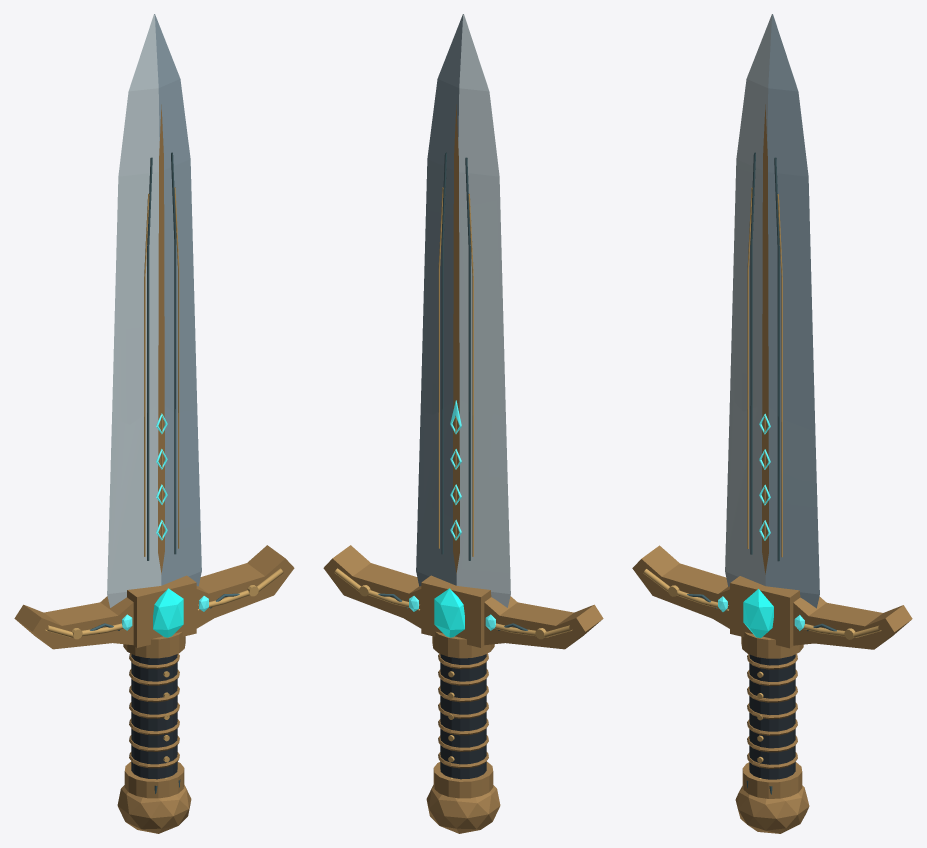
File: fractura_guardian.glb
The picture shows the model from 3 angles, left to right: view 1: azimuth 30°, elevation 25°; view 2: azimuth 150°, elevation 25°; view 3: azimuth 330°, elevation 25°; orthographic projection.
Parts seen in each view (by area): view 1: Punta - Hoja - acero facetado, Base - Hoja - acero facetado, Base - Guarda alada, Base - Empunadura, Base - Centro de la guarda, Base - Pomo, Punta - Nervio de la hoja, Base - Collar inferior, Base - Gema del guardian, Base - Collar superior, Base - Nervio de la hoja, Punta - Canal de acero.001 (+1 smaller); view 2: Punta - Hoja - acero facetado, Base - Hoja - acero facetado, Base - Guarda alada, Base - Empunadura, Base - Centro de la guarda, Base - Pomo, Punta - Nervio de la hoja.001, Base - Collar inferior, Base - Gema del guardian.001, Base - Collar superior, Base - Nervio de la hoja.001, Punta - Canal de acero.003 (+1 smaller); view 3: Punta - Hoja - acero facetado, Base - Hoja - acero facetado, Base - Guarda alada, Base - Empunadura, Base - Centro de la guarda, Base - Pomo, Punta - Nervio de la hoja, Base - Collar inferior, Base - Gema del guardian, Base - Collar superior, Base - Nervio de la hoja, Punta - Canal de acero.001 (+1 smaller).
Boxes of the visible parts, x1=… form: Punta - Hoja - acero facetado: x1=112, y1=14, x2=197, y2=424; Base - Hoja - acero facetado: x1=107, y1=405, x2=201, y2=607; Base - Guarda alada: x1=14, y1=545, x2=294, y2=649; Base - Empunadura: x1=131, y1=654, x2=177, y2=779; Base - Centro de la guarda: x1=127, y1=575, x2=196, y2=647; Base - Pomo: x1=117, y1=784, x2=191, y2=833; Punta - Nervio de la hoja: x1=158, y1=104, x2=164, y2=402; Base - Collar inferior: x1=124, y1=761, x2=184, y2=798; Base - Gema del guardian: x1=153, y1=588, x2=183, y2=637; Base - Collar superior: x1=123, y1=631, x2=185, y2=658; Base - Nervio de la hoja: x1=158, y1=402, x2=164, y2=574; Punta - Canal de acero.001: x1=171, y1=152, x2=176, y2=409; Punta - Hoja - acero facetado: x1=420, y1=14, x2=505, y2=417; Base - Hoja - acero facetado: x1=416, y1=400, x2=510, y2=607; Base - Guarda alada: x1=323, y1=545, x2=603, y2=649; Base - Empunadura: x1=440, y1=654, x2=486, y2=779; Base - Centro de la guarda: x1=421, y1=575, x2=491, y2=647; Base - Pomo: x1=426, y1=784, x2=500, y2=833; Punta - Nervio de la hoja.001: x1=453, y1=104, x2=459, y2=400; Base - Collar inferior: x1=433, y1=761, x2=493, y2=798; Base - Gema del guardian.001: x1=434, y1=588, x2=464, y2=637; Base - Collar superior: x1=432, y1=631, x2=494, y2=658; Base - Nervio de la hoja.001: x1=453, y1=400, x2=459, y2=574; Punta - Canal de acero.003: x1=441, y1=152, x2=446, y2=409; Punta - Hoja - acero facetado: x1=730, y1=14, x2=815, y2=431; Base - Hoja - acero facetado: x1=725, y1=397, x2=819, y2=608; Base - Guarda alada: x1=632, y1=545, x2=912, y2=649; Base - Empunadura: x1=749, y1=654, x2=795, y2=779; Base - Centro de la guarda: x1=730, y1=576, x2=800, y2=648; Base - Pomo: x1=735, y1=785, x2=809, y2=833; Punta - Nervio de la hoja: x1=762, y1=104, x2=768, y2=403; Base - Collar inferior: x1=742, y1=762, x2=802, y2=798; Base - Gema del guardian: x1=743, y1=589, x2=773, y2=637; Base - Collar superior: x1=741, y1=632, x2=803, y2=658; Base - Nervio de la hoja: x1=762, y1=402, x2=768, y2=574; Punta - Canal de acero.001: x1=774, y1=157, x2=779, y2=417.
Bounding box in the file's own units: 2.32 × 6.9 × 0.58.
